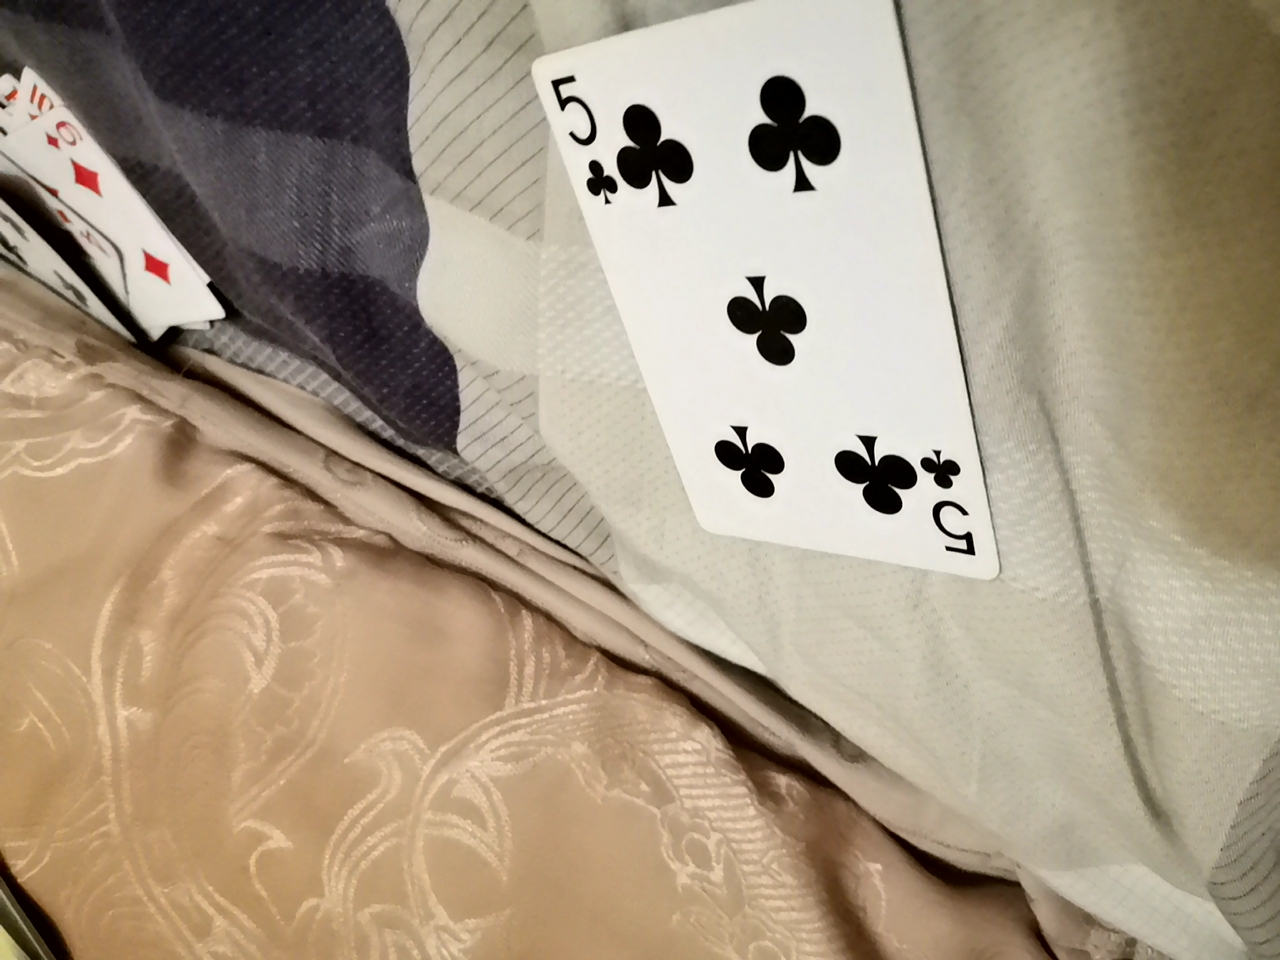mh 5: (512, 10, 1025, 575)
